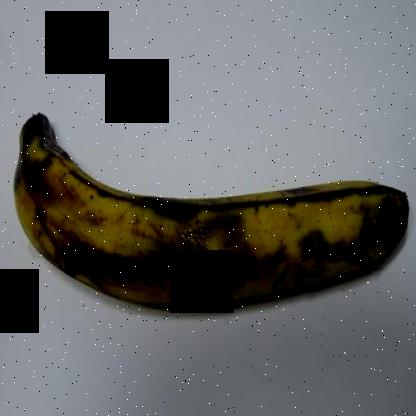overripe: (6, 111, 415, 337)
